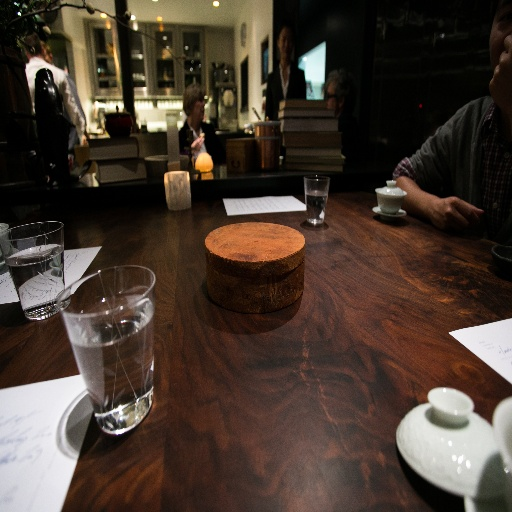hand: (428, 195, 485, 236), (190, 133, 204, 151), (81, 133, 87, 145)
